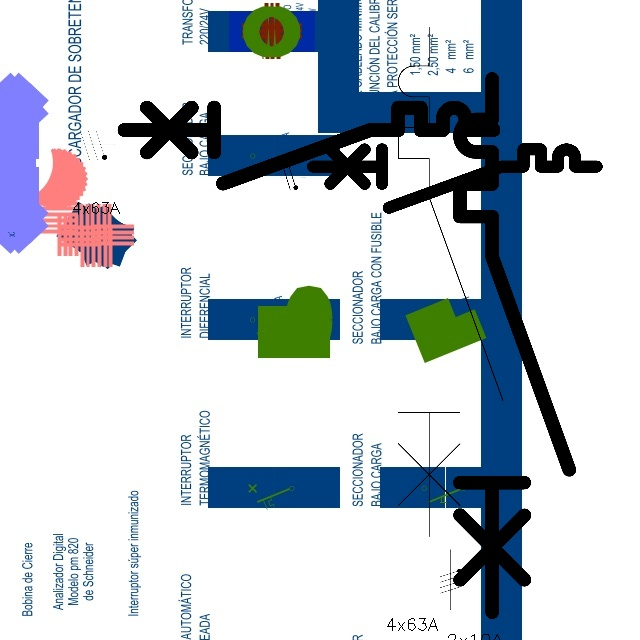interruptor_termomagnetico: (446, 65, 583, 626), (385, 14, 516, 549), (114, 98, 502, 193), (305, 142, 603, 215)
